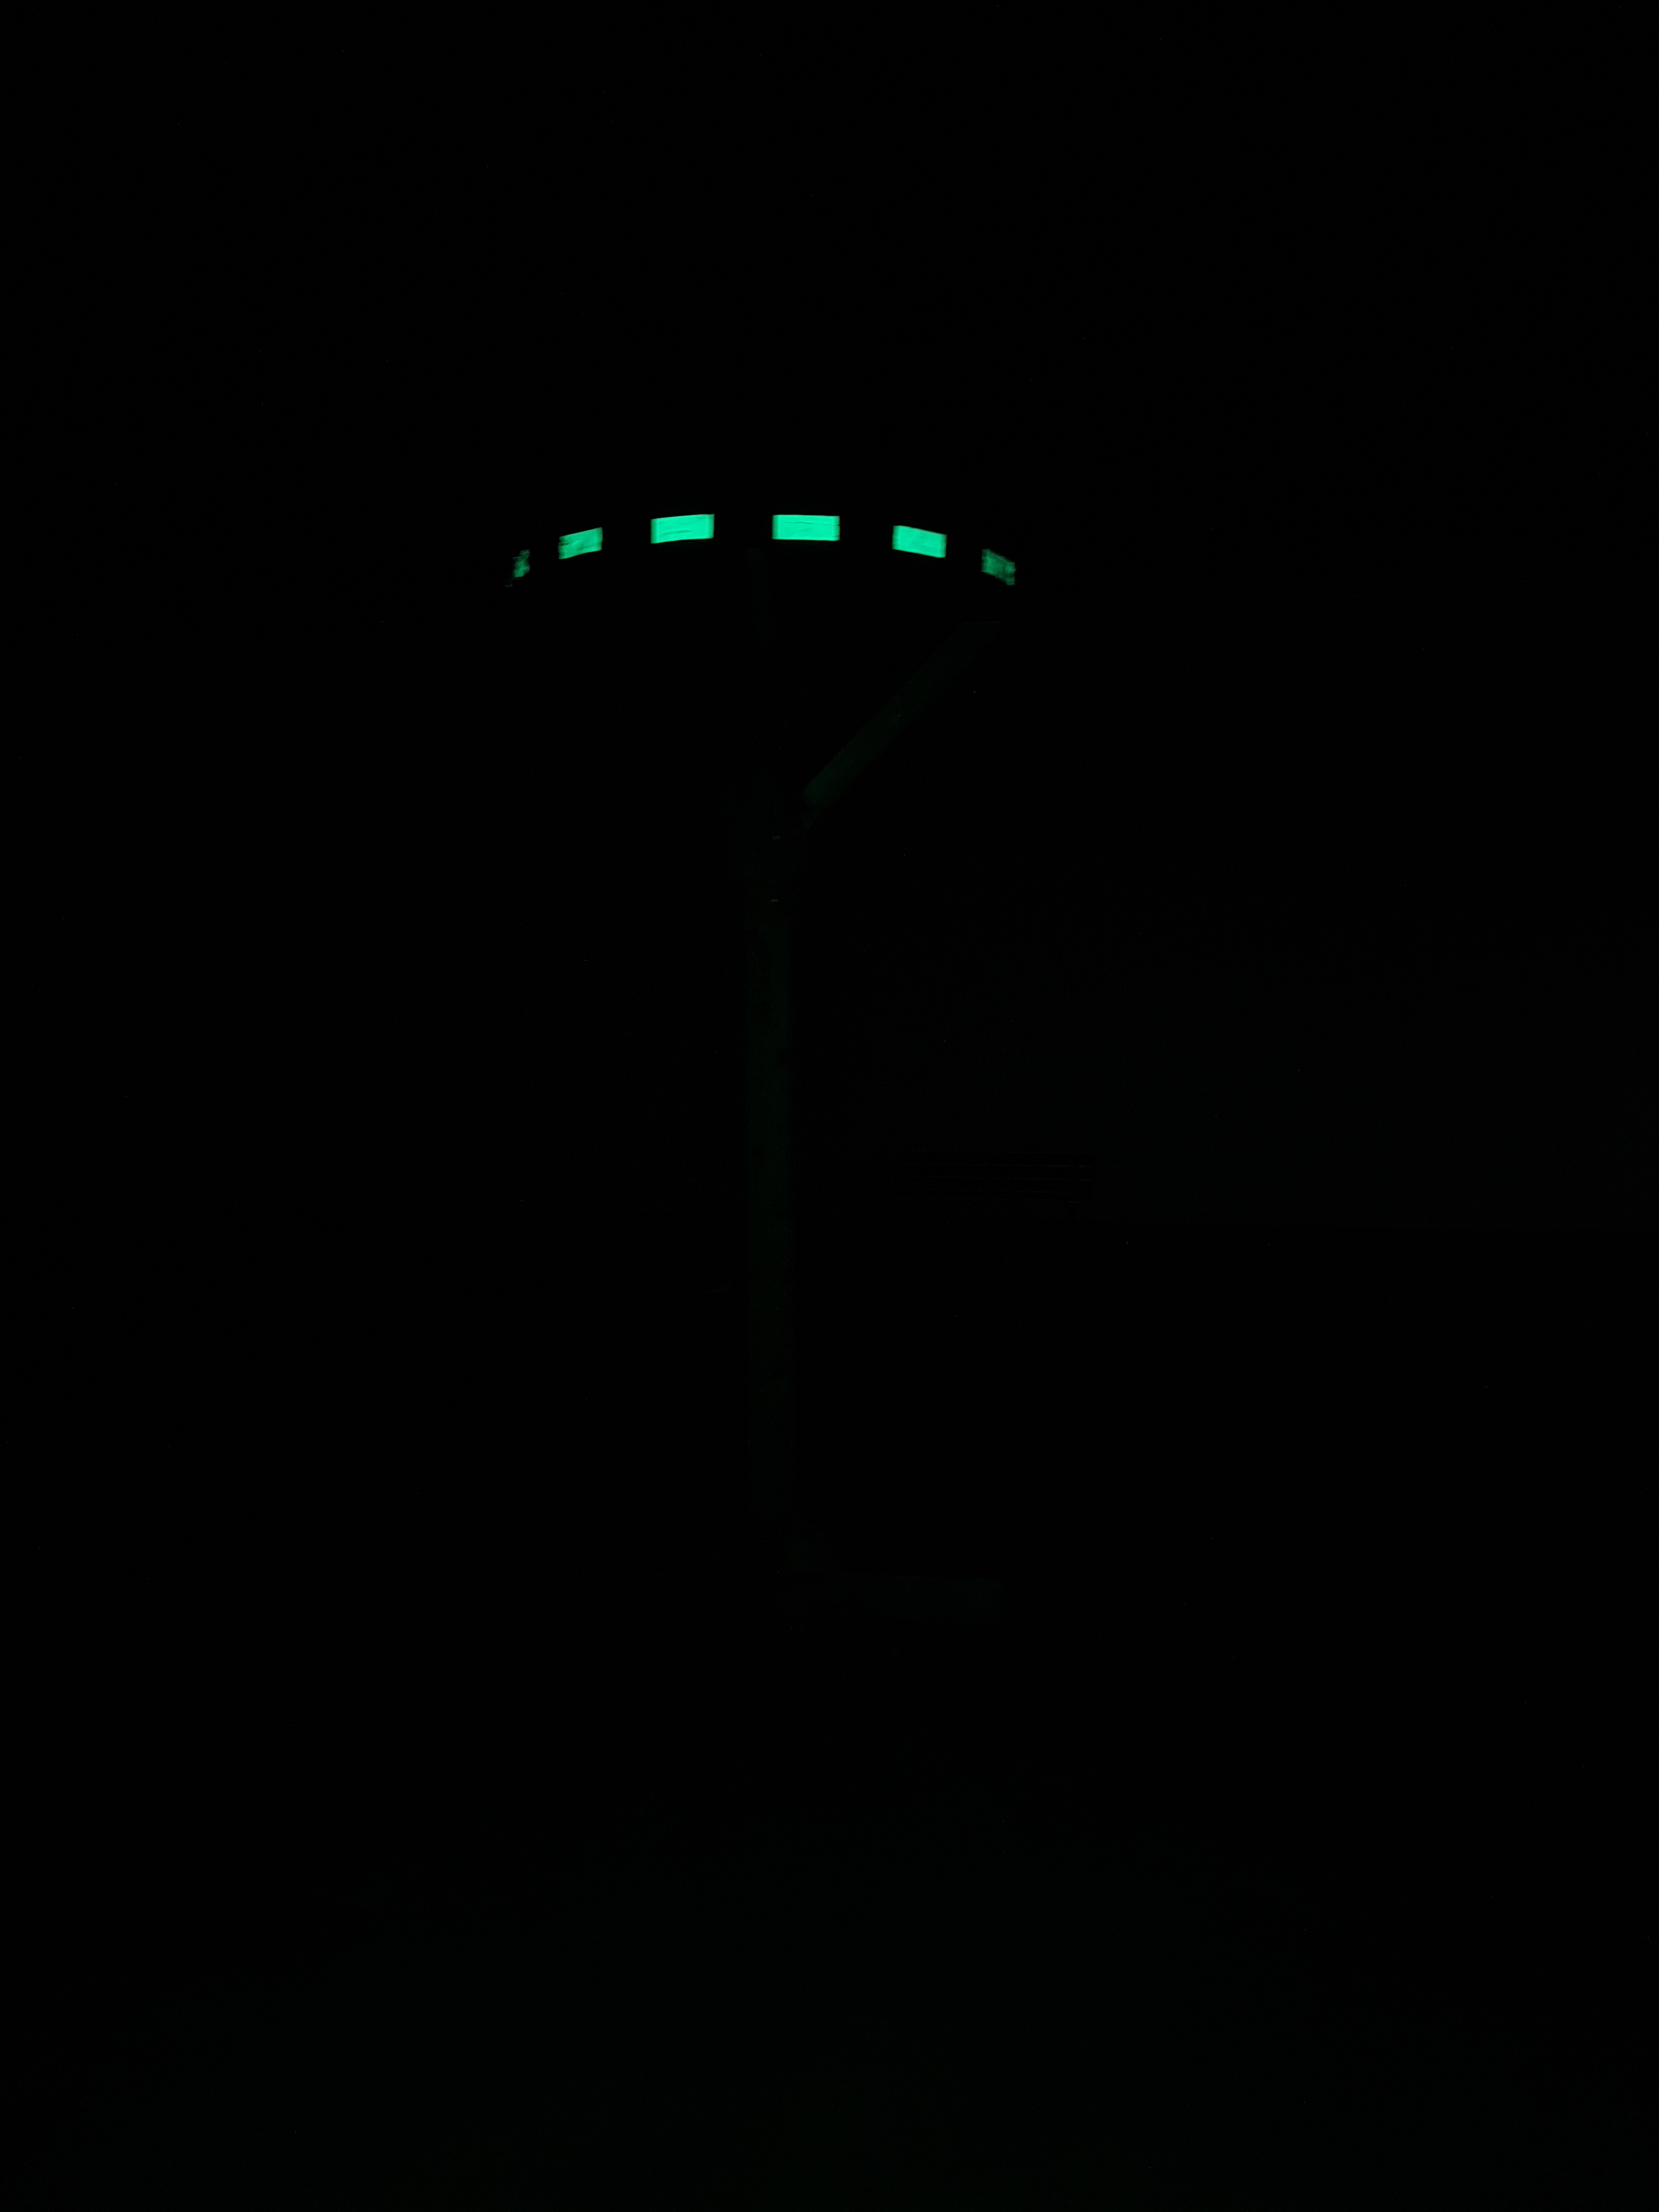hoop: (486, 498, 1028, 603)
